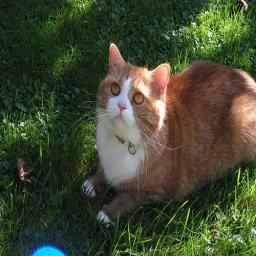catnose: (116, 100, 129, 115)
